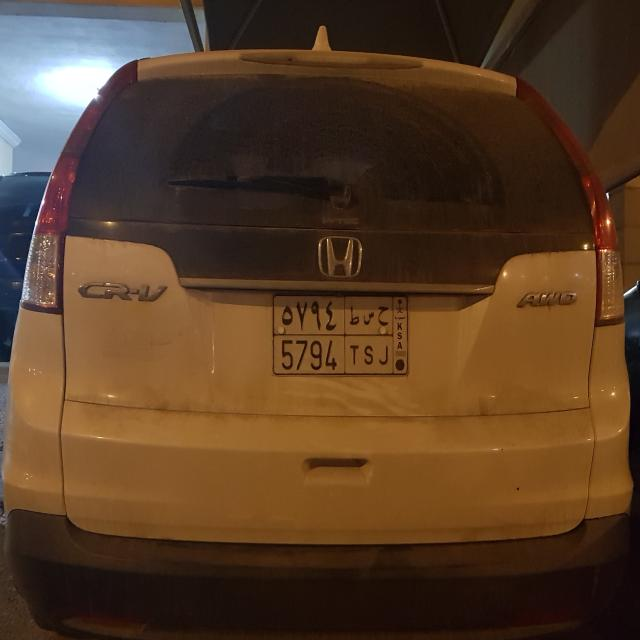license_plate: (270, 291, 411, 380)
